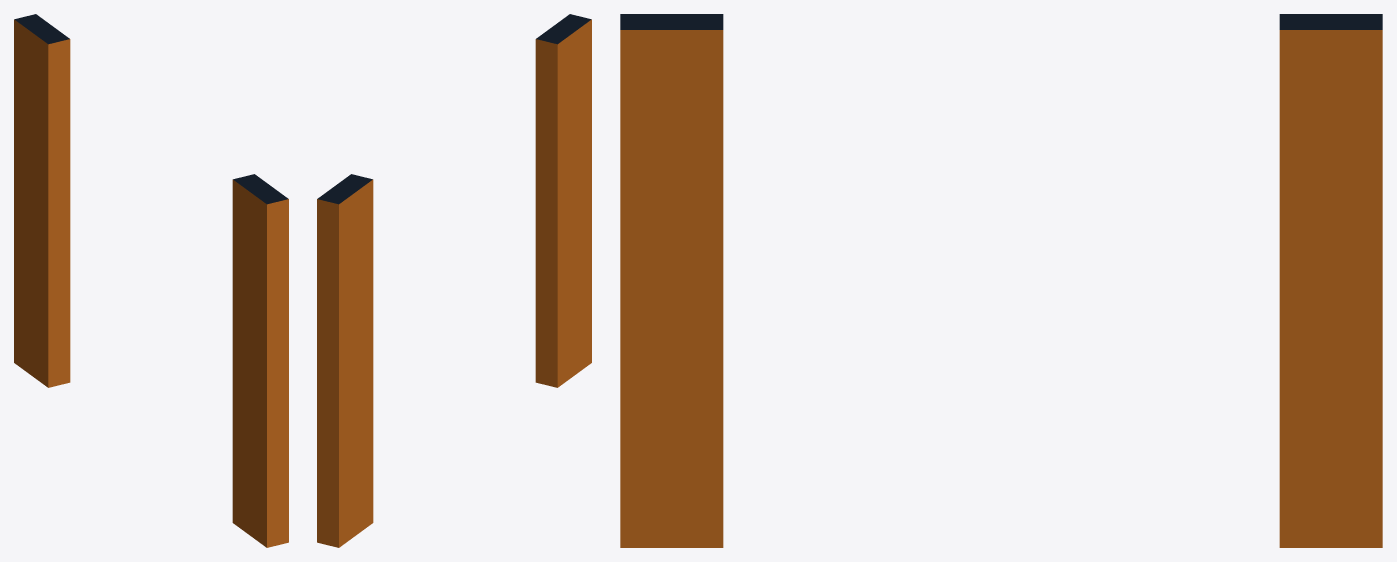
File: Porte_Simple_Mur1.FBX
3 renders of one model, left to right at view 1: azimuth 30°, elevation 25°; view 2: azimuth 150°, elevation 25°; view 3: azimuth 270°, elevation 25°, orthographic. The views are drawn at different scales.
Parts seen in each view (by area): view 1: Porte_Simple_Mur1; view 2: Porte_Simple_Mur1; view 3: Porte_Simple_Mur1.
Boxes of the visible parts, left/top/right/bottom form: Porte_Simple_Mur1: left=14, top=14, right=288, bottom=547; Porte_Simple_Mur1: left=317, top=14, right=591, bottom=547; Porte_Simple_Mur1: left=620, top=14, right=1382, bottom=547.
Bounding box in the file's own units: 0.1 × 1.5 × 2.
